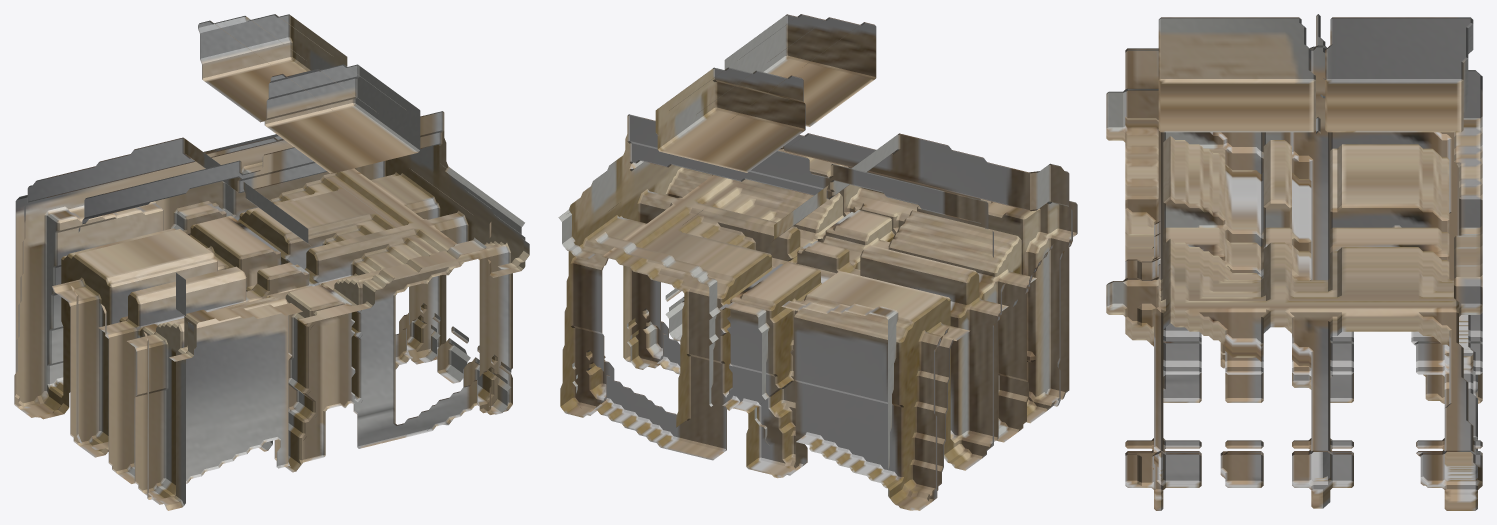
3 views of the same model, side by side, from view 1: azimuth 30°, elevation 25°; view 2: azimuth 150°, elevation 25°; view 3: azimuth 270°, elevation 25° (orthographic). The views are drawn at different scales.
Visible parts, largest first — view 1: geometry_0; view 2: geometry_0; view 3: geometry_0.
Boxes of the visible parts, box(x1,y1,x2,y2) form: geometry_0: box(14, 14, 529, 510); geometry_0: box(558, 14, 1077, 510); geometry_0: box(1106, 14, 1482, 510).
Size of the model in its own units: 0.45 by 0.4067 by 0.3418.
